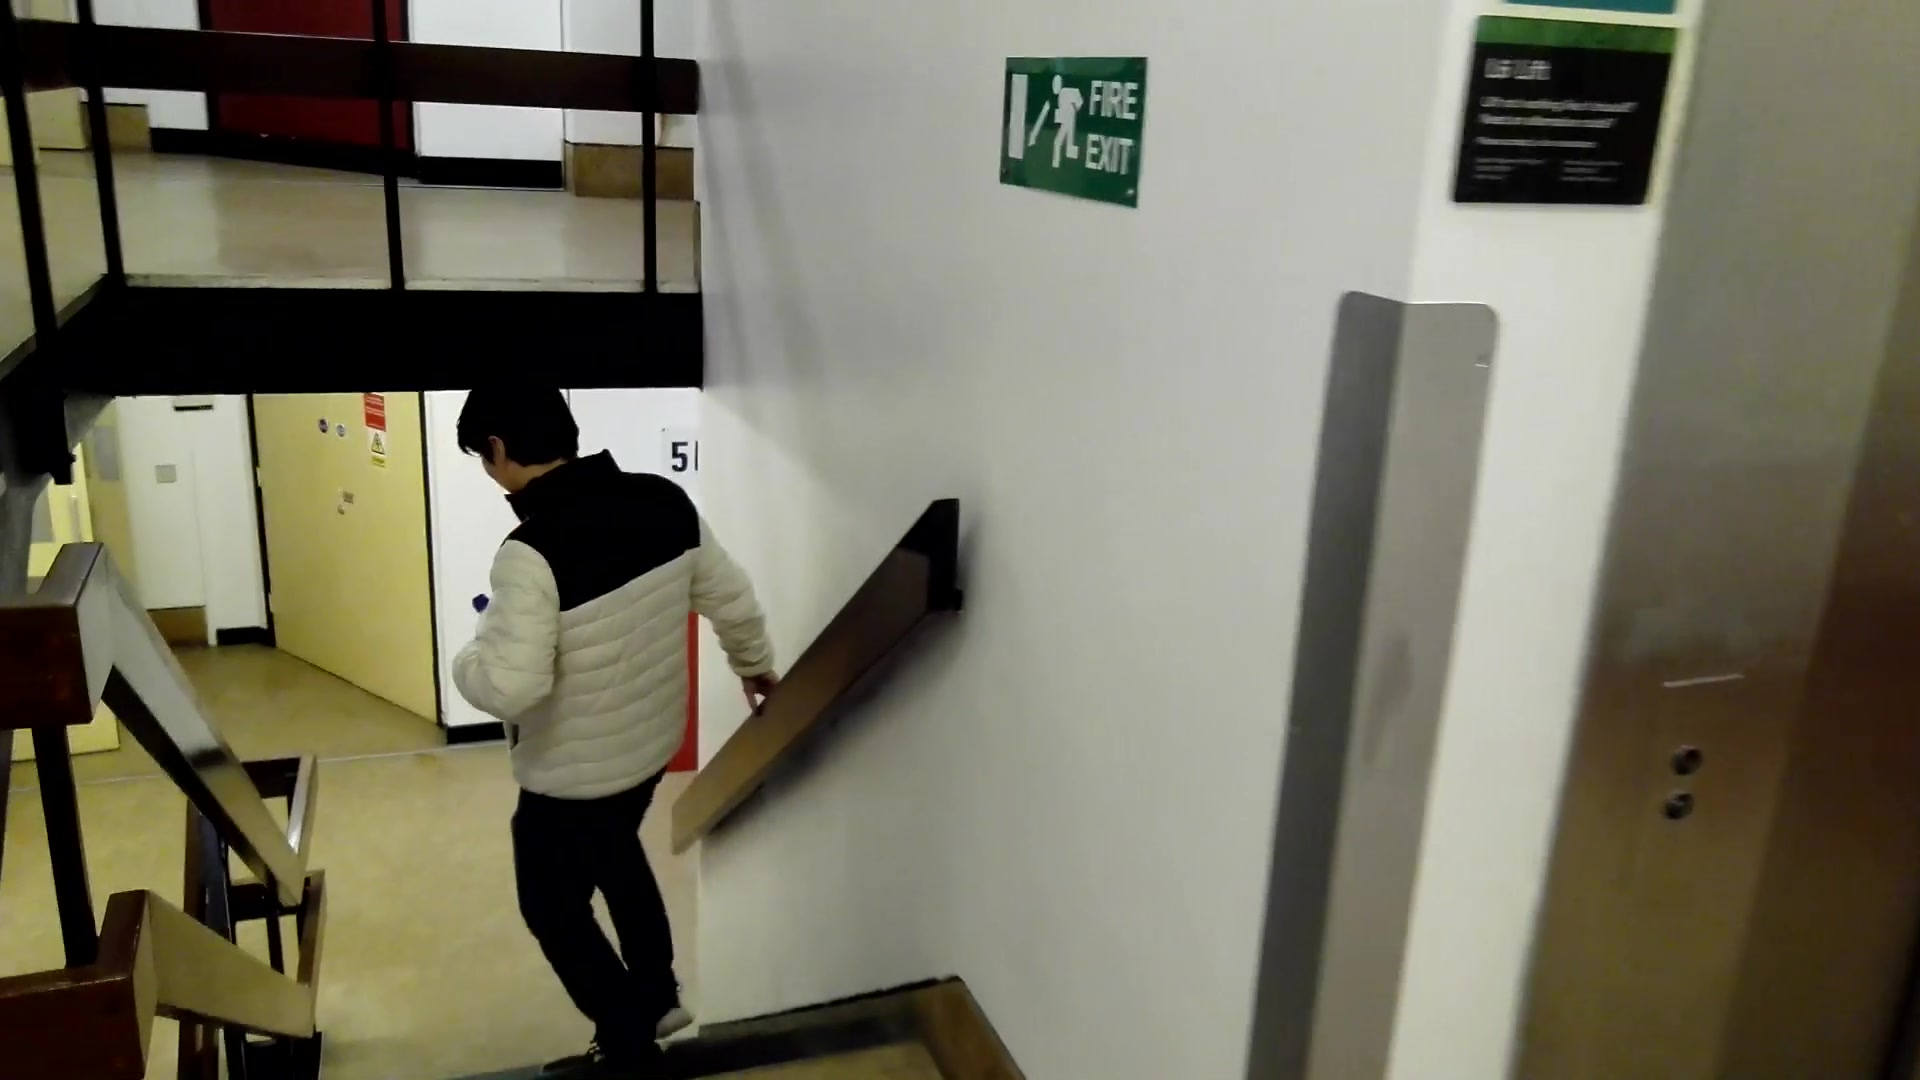Person: (440, 374, 717, 1065)
